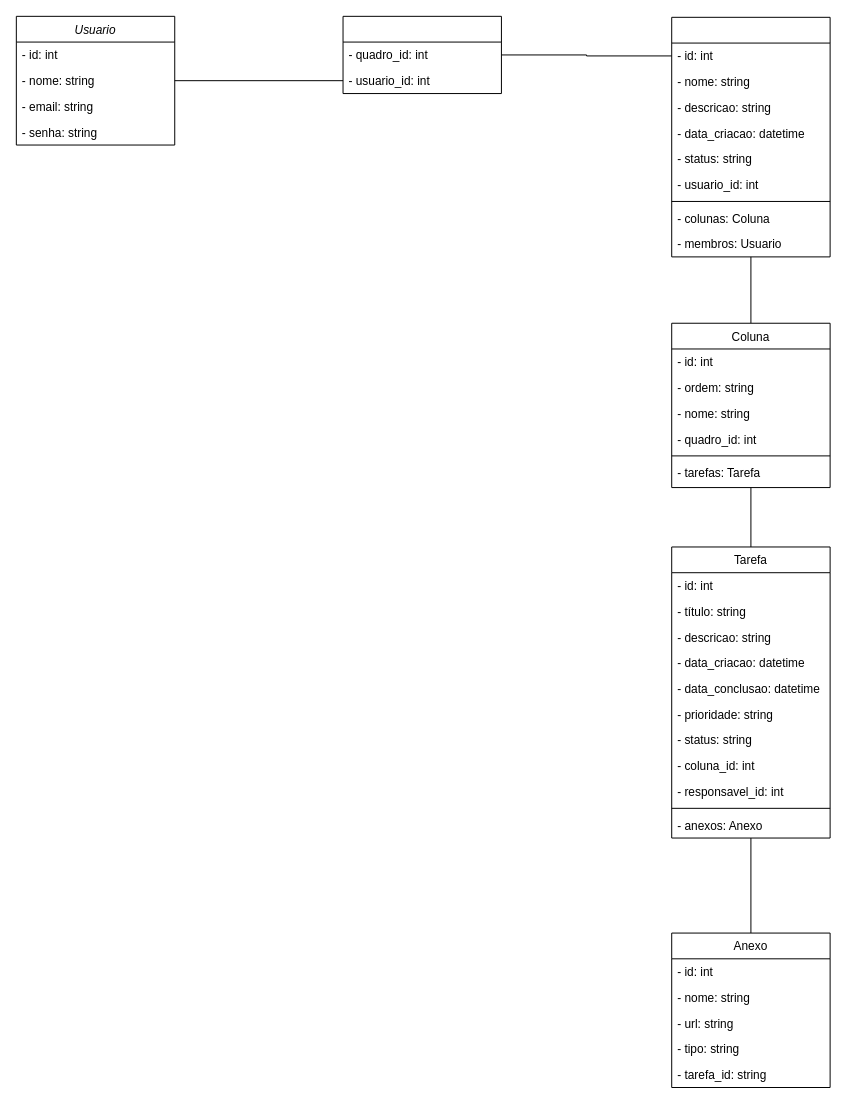
Image size: 846x1104. Some labels were removed from this diagram. The box of each missing label's shape, as (x1, y1, x2, y2) in pixels:
Quadro: (671, 16, 830, 257)
quadro_membros: (342, 15, 501, 94)
